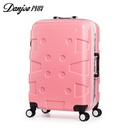luggage: (25, 15, 103, 120)
